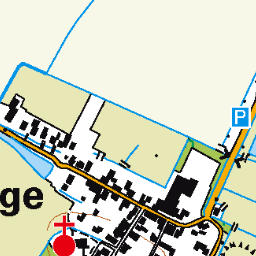church: (45, 212, 81, 256)
